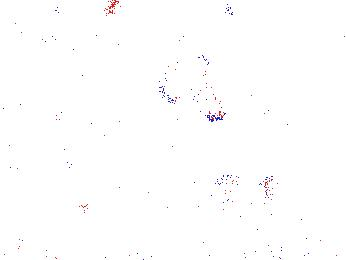flame jellyfish: (156, 50, 230, 122), (1, 168, 78, 222), (209, 171, 274, 225)
